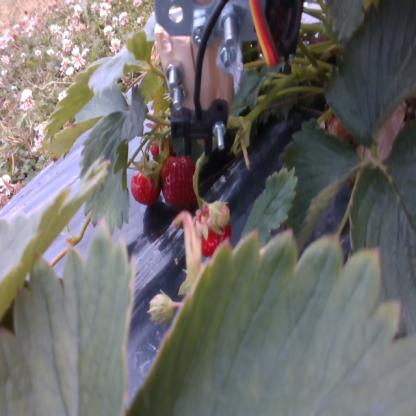ripe: (194, 200, 236, 252), (162, 151, 196, 206), (131, 166, 159, 204), (148, 136, 172, 157)
